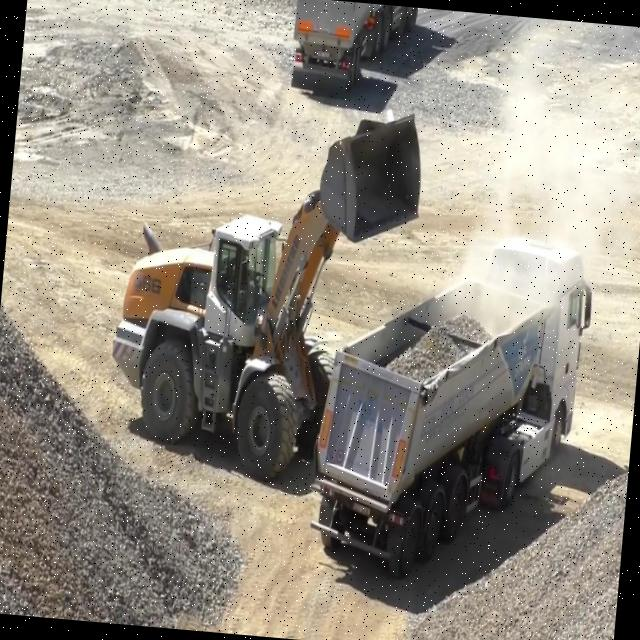Dump Truck: (300, 216, 598, 593), (285, 0, 422, 101)
Loader: (99, 82, 428, 494)
